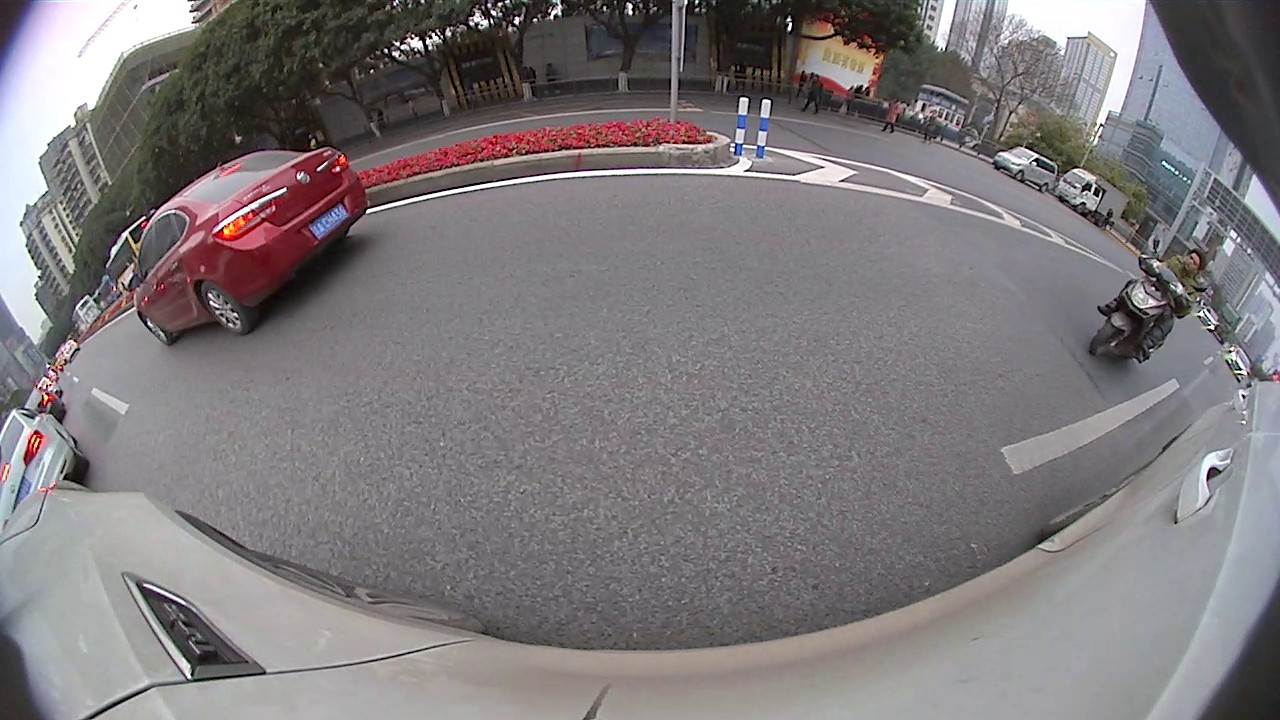bus: (104, 212, 162, 289)
car: (130, 144, 371, 349), (3, 401, 87, 519), (994, 144, 1058, 192), (17, 384, 68, 416)
person: (810, 73, 822, 115), (888, 96, 901, 131), (930, 109, 937, 143)
rear: (200, 279, 249, 336)
rider: (1101, 200, 1203, 370)
truck: (1056, 165, 1129, 227)
